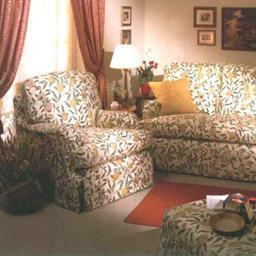Matera: (6, 136, 51, 210)
